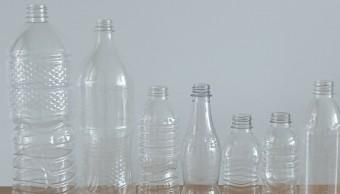bottle: (0, 3, 45, 192), (93, 19, 111, 194), (151, 83, 164, 192), (199, 80, 208, 192), (239, 114, 240, 193), (280, 112, 280, 194), (321, 80, 321, 194)
